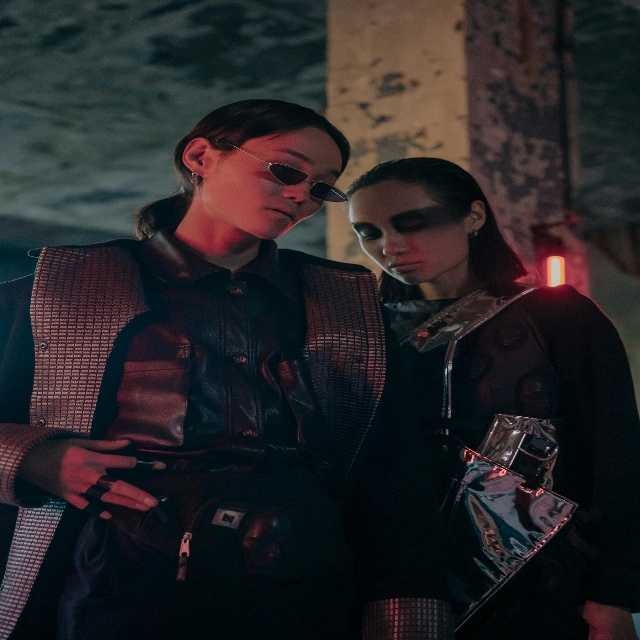Gafas: (268, 159, 346, 211)
Sin_guantes: (43, 439, 166, 531)
